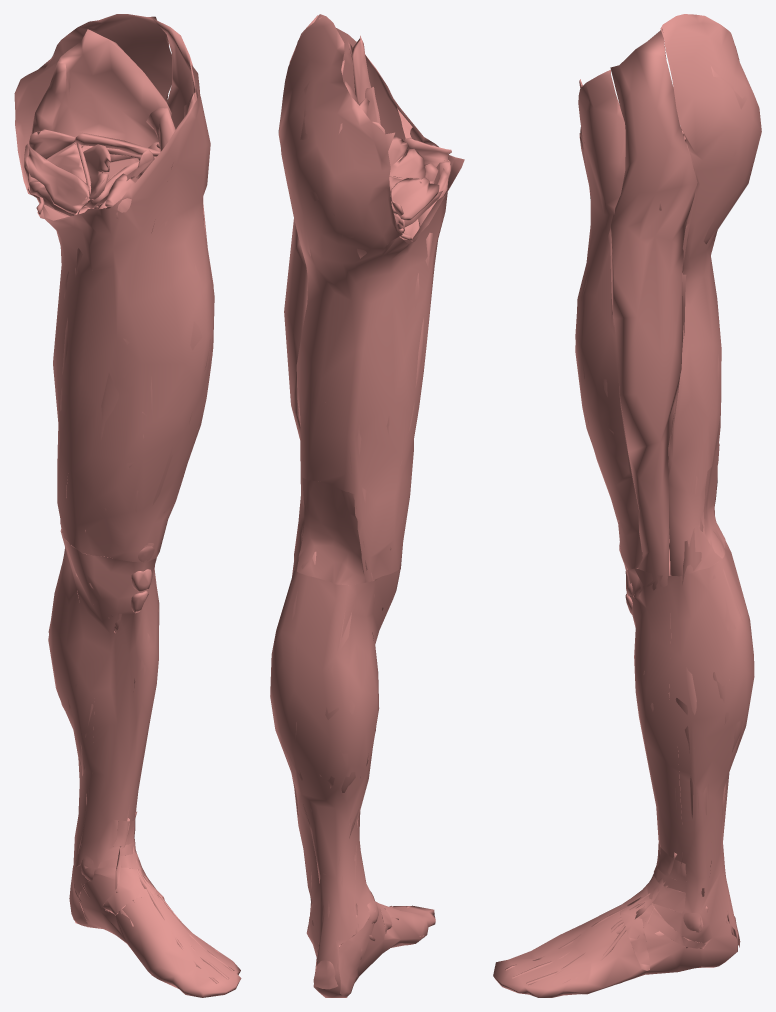
File: lod1-leg-left-muscle.glb
3 views of the same model, side by side, from view 1: azimuth 30°, elevation 25°; view 2: azimuth 150°, elevation 25°; view 3: azimuth 270°, elevation 25° (orthographic). The views are drawn at different scales.
Visible parts, largest first — view 1: part::Fascia lata.l, part::Crural fascia.l, part::Gluteus maximus muscle.l, part::Pubococcygeus muscle.l, part::Iliotibial tract.l, part::Superior fibular retinaculum.l, part::Rectus femoris muscle.l, part::Obturator internus.l, part::Coccygeus muscle.l, part::Sartorius muscle.l, part::Superior gemellus muscle.l, part::Iliococcygeus muscle.l (+3 smaller); view 2: part::Fascia lata.l, part::Crural fascia.l, part::Popliteal fascia.l, part::Iliotibial tract.l, part::Pubococcygeus muscle.l, part::Flexor retinaculum of ankle.l, part::Obturator internus.l, part::Sartorius muscle.l, part::Gracilis muscle.l, part::Medial head of gastrocnemius.l, part::Gluteus maximus muscle.l, part::Pectineus muscle.l (+1 smaller); view 3: part::Fascia lata.l, part::Crural fascia.l, part::Iliotibial tract.l, part::Popliteal fascia.l, part::Superior fibular retinaculum.l, part::Inferior fibular retinaculum.l, part::Gluteus maximus muscle.l, part::Tendon of extensor digitorum longus.l, part::Inferior extensor retinaculum of ankle.l, part::Lateral head of gastrocnemius.l, part::Long head of biceps femoris.l, part::Fibularis longus muscle.l.
Boxes of the visible parts, <box> form: part::Fascia lata.l: <box>14,14,214,562</box>; part::Crural fascia.l: <box>48,529,241,997</box>; part::Gluteus maximus muscle.l: <box>24,29,171,216</box>; part::Pubococcygeus muscle.l: <box>24,146,90,214</box>; part::Iliotibial tract.l: <box>152,18,213,355</box>; part::Superior fibular retinaculum.l: <box>94,867,155,915</box>; part::Rectus femoris muscle.l: <box>143,108,210,591</box>; part::Obturator internus.l: <box>81,144,155,206</box>; part::Coccygeus muscle.l: <box>29,129,75,159</box>; part::Sartorius muscle.l: <box>71,92,196,633</box>; part::Superior gemellus muscle.l: <box>75,132,160,157</box>; part::Iliococcygeus muscle.l: <box>28,142,86,187</box>; part::Fascia lata.l: <box>278,14,464,582</box>; part::Crural fascia.l: <box>270,565,435,997</box>; part::Popliteal fascia.l: <box>297,478,364,584</box>; part::Iliotibial tract.l: <box>278,15,321,439</box>; part::Pubococcygeus muscle.l: <box>391,177,439,220</box>; part::Flexor retinaculum of ankle.l: <box>339,917,374,996</box>; part::Obturator internus.l: <box>388,136,425,178</box>; part::Sartorius muscle.l: <box>348,35,398,572</box>; part::Gracilis muscle.l: <box>390,168,448,573</box>; part::Medial head of gastrocnemius.l: <box>319,584,376,792</box>; part::Gluteus maximus muscle.l: <box>290,60,398,258</box>; part::Pectineus muscle.l: <box>401,137,451,167</box>; part::Fascia lata.l: <box>575,14,761,576</box>; part::Crural fascia.l: <box>493,541,754,997</box>; part::Iliotibial tract.l: <box>610,29,697,595</box>; part::Popliteal fascia.l: <box>704,443,725,558</box>; part::Superior fibular retinaculum.l: <box>620,883,705,948</box>; part::Inferior fibular retinaculum.l: <box>620,912,650,970</box>; part::Gluteus maximus muscle.l: <box>682,66,757,272</box>; part::Tendon of extensor digitorum longus.l: <box>505,893,650,985</box>; part::Inferior extensor retinaculum of ankle.l: <box>647,873,685,912</box>; part::Lateral head of gastrocnemius.l: <box>712,531,748,752</box>; part::Long head of biceps femoris.l: <box>678,352,719,584</box>; part::Fibularis longus muscle.l: <box>675,667,706,948</box>.
Bounding box in the file's own units: 0.1611 × 0.9939 × 0.2519.
